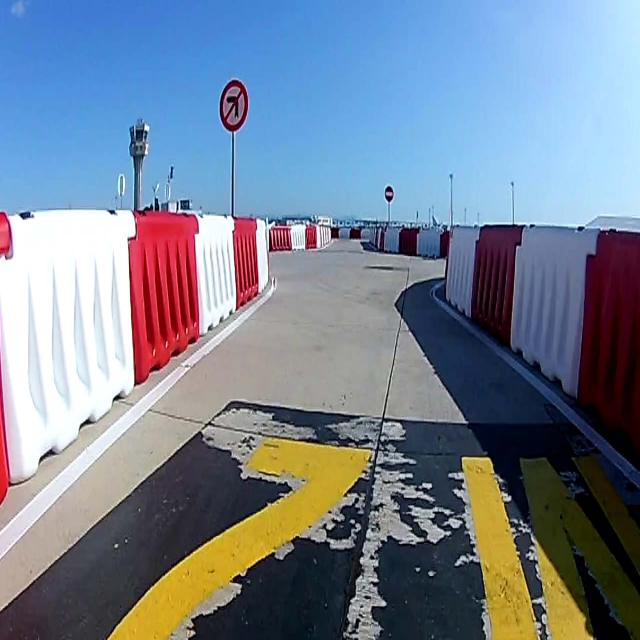soladonulmez: (219, 80, 249, 132)
